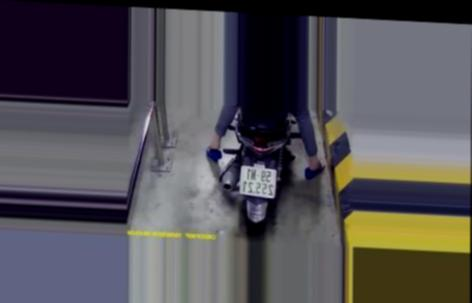License_Plate: (238, 165, 280, 201)
